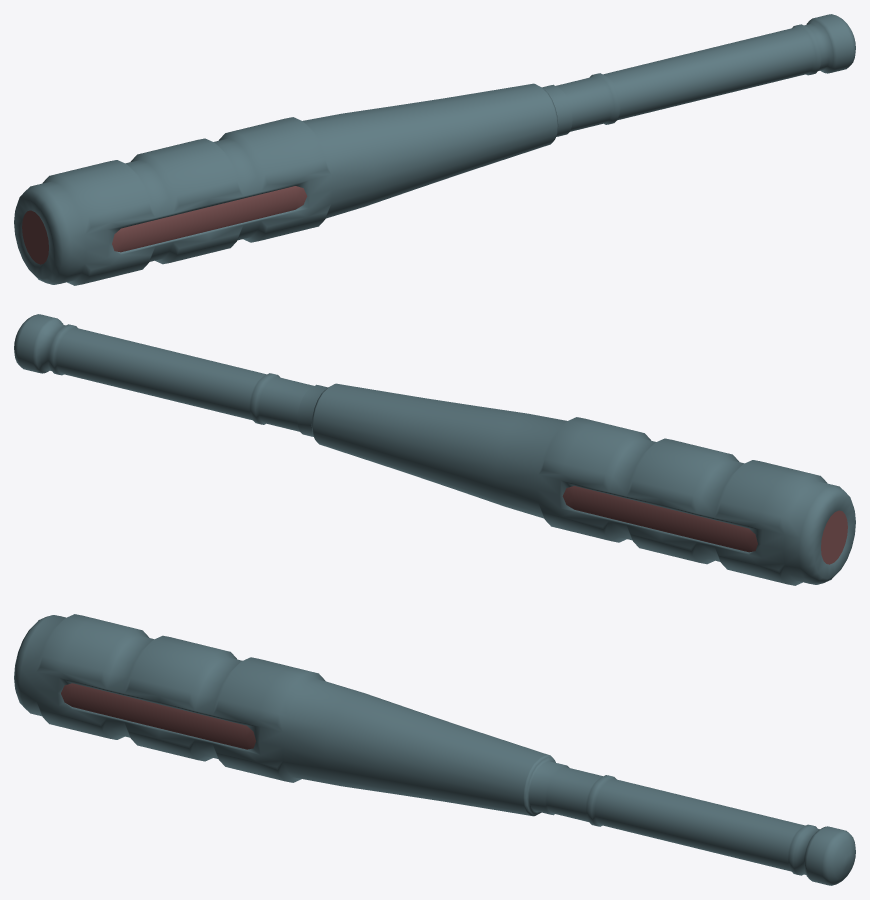
File: robotbat_low.fbx
The picture shows the model from 3 angles, top to bottom: view 1: azimuth 30°, elevation 25°; view 2: azimuth 150°, elevation 25°; view 3: azimuth 330°, elevation 25°; orthographic projection.
Parts seen in each view (by area): view 1: robotbat_body, robotbat_glass; view 2: robotbat_body, robotbat_glass; view 3: robotbat_body, robotbat_glass.
Boxes of the visible parts, <box> form: robotbat_body: <box>14,14,855,285</box>; robotbat_glass: <box>22,186,307,264</box>; robotbat_body: <box>14,314,855,585</box>; robotbat_glass: <box>562,486,847,564</box>; robotbat_body: <box>14,614,855,885</box>; robotbat_glass: <box>61,683,255,749</box>.
Bounding box in the file's own units: 105 × 12.79 × 11.48.
